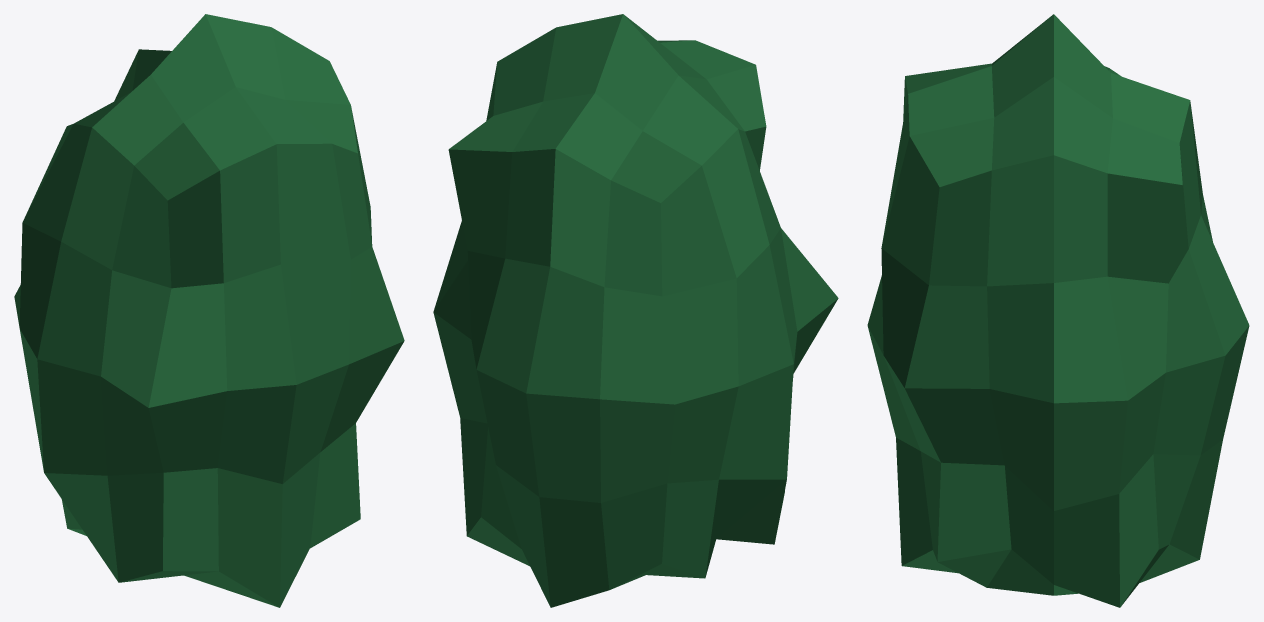
Rendered from bush_d1.fbx.
The picture shows the model from 3 angles, left to right: view 1: azimuth 30°, elevation 25°; view 2: azimuth 150°, elevation 25°; view 3: azimuth 270°, elevation 25°; orthographic projection. The views are drawn at different scales.
Visible parts, largest first — view 1: Cube; view 2: Cube; view 3: Cube.
Boxes of the visible parts, left/top/right/bottom form: Cube: left=14, top=14, right=404, bottom=607; Cube: left=433, top=14, right=838, bottom=607; Cube: left=867, top=14, right=1249, bottom=607.
Bounding box in the file's own units: 551 × 903 × 549.
